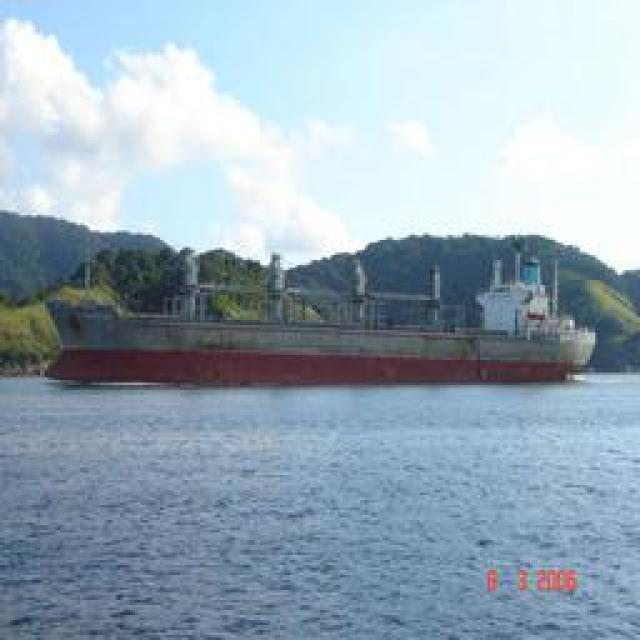Ship: (42, 305, 602, 388)
